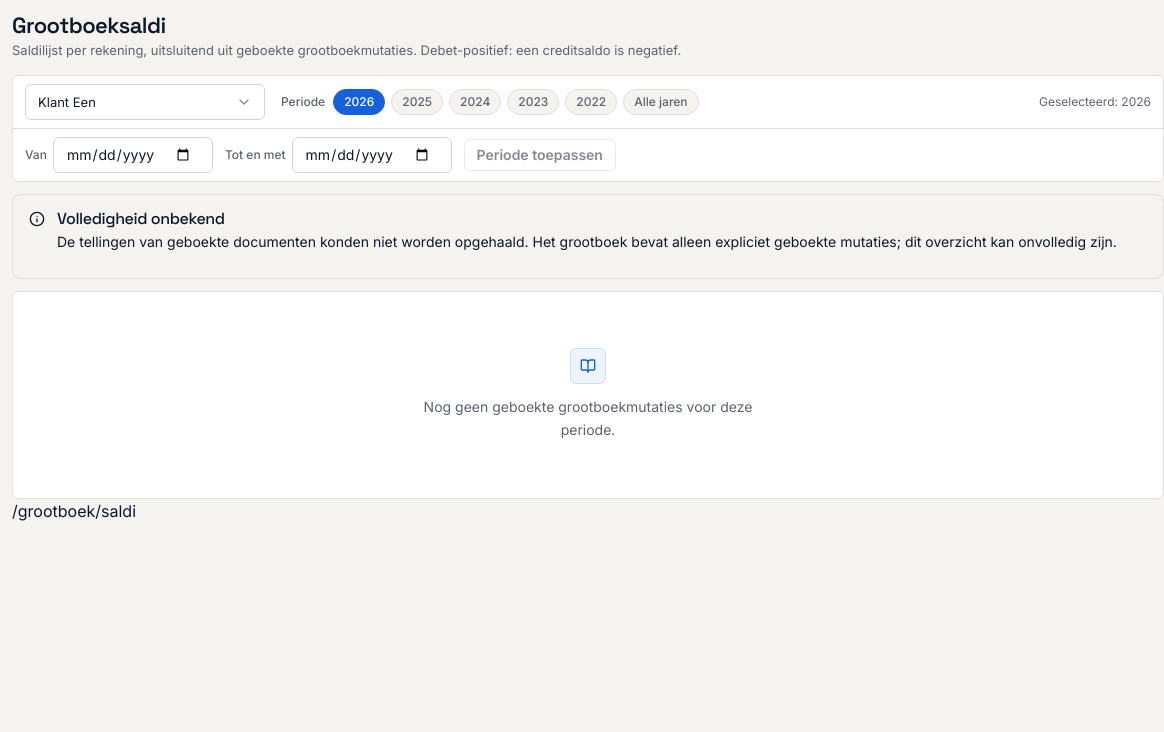
Test: GrootboekSaldi — saldilijst › 15. periodefilters gaan als half-open [from, toExclusive) naar de hook; boekjaar nooit
Click the button "2025" at point(417, 102), box 391,89 -> 443,115
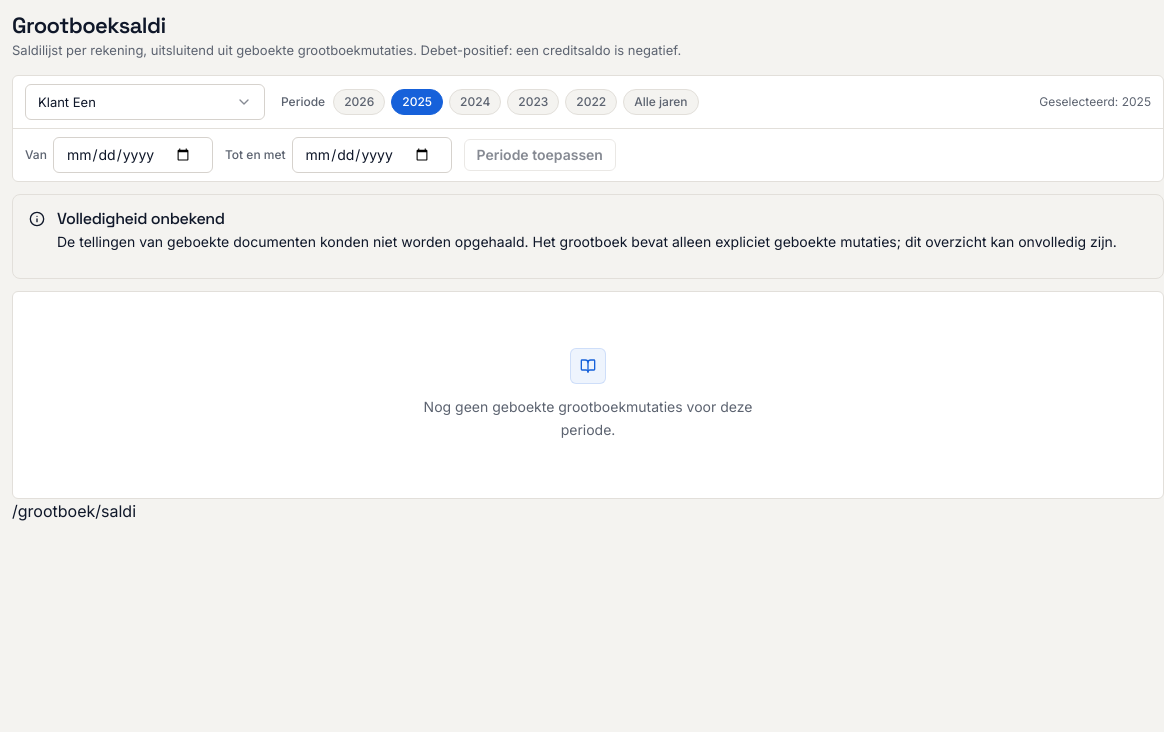
Click the button "Alle jaren" at point(661, 102), box 623,89 -> 699,115
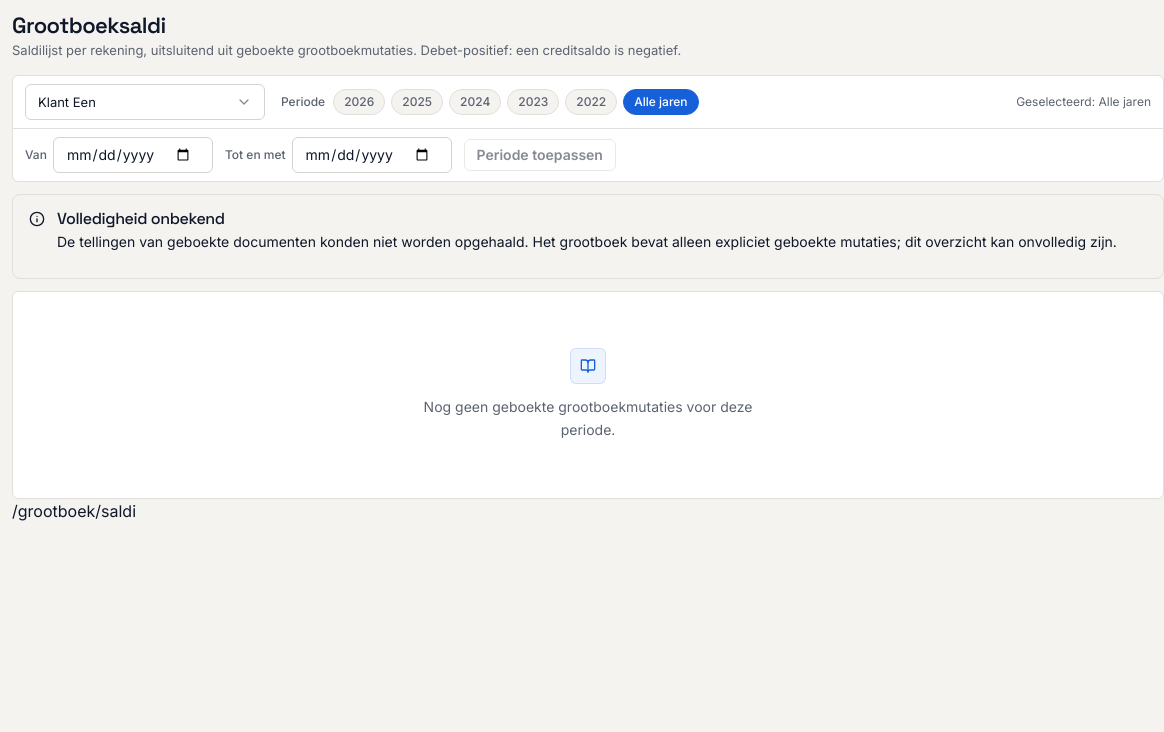
Type "2027-02-01" into the date field labelled "Van" at point(133, 155), box 53,137 -> 213,173
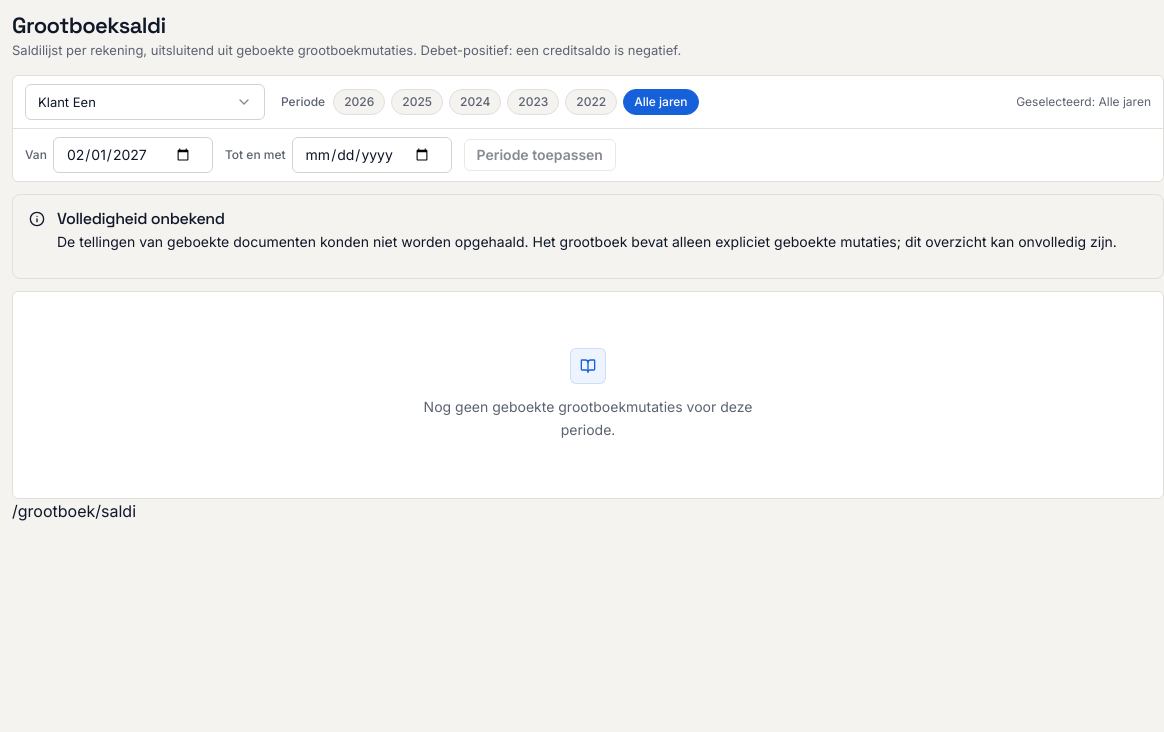
Type "2027-02-28" into the date field labelled "Tot en met" at point(372, 155), box 292,137 -> 452,173
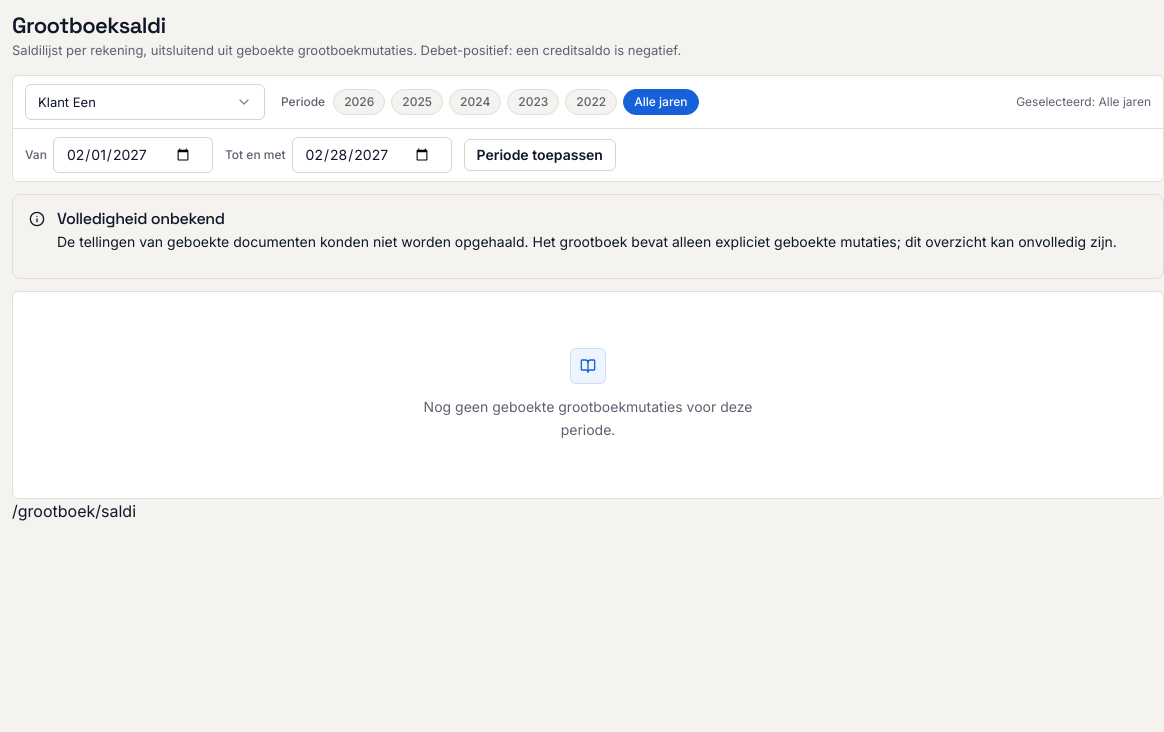
Click the button "Periode toepassen" at point(540, 155), box 464,139 -> 616,171
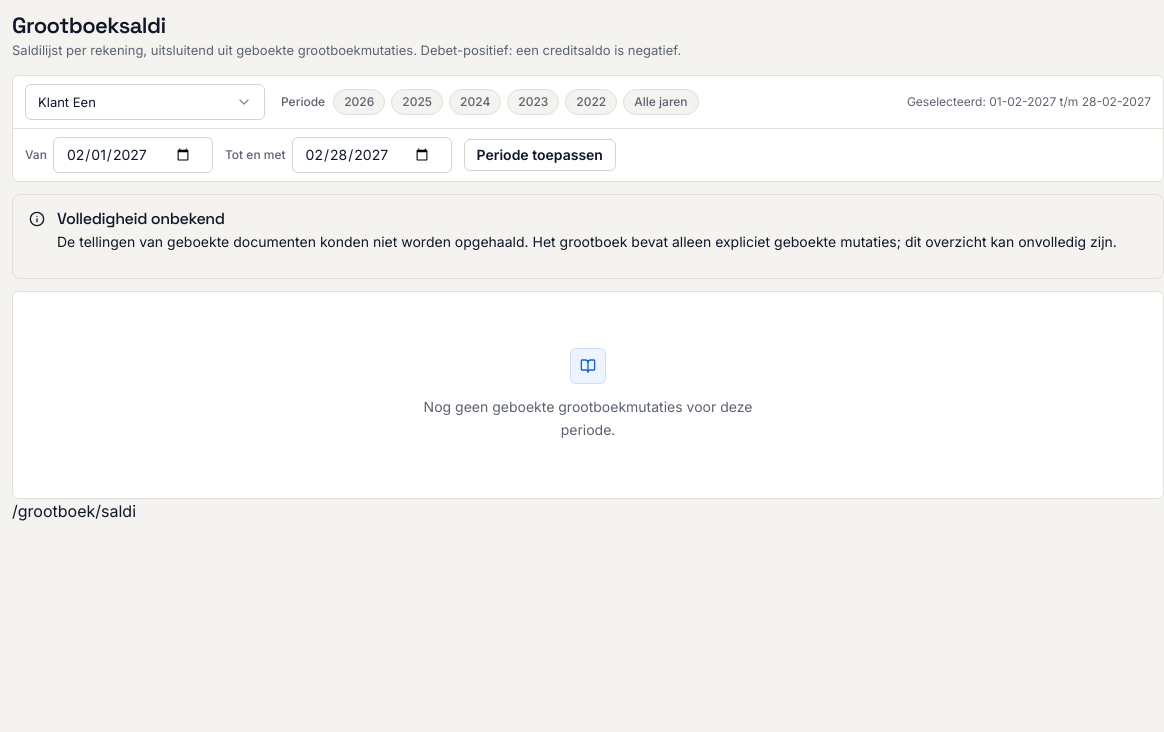
Check: the text with test id "period-label" shows "01-02-2027 t/m 28-02-2027", box 989,94 -> 1151,109
